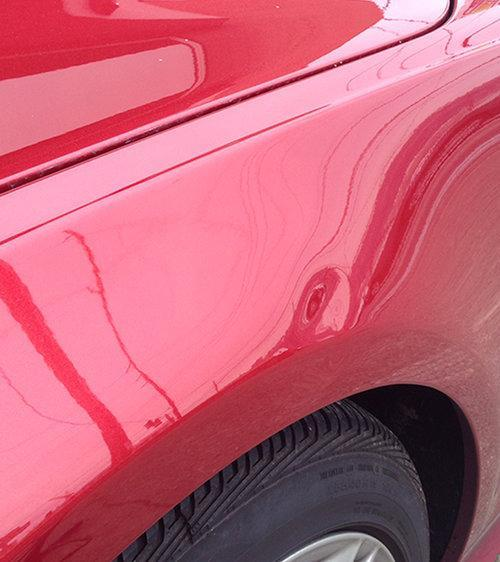dent: (265, 246, 389, 369)
